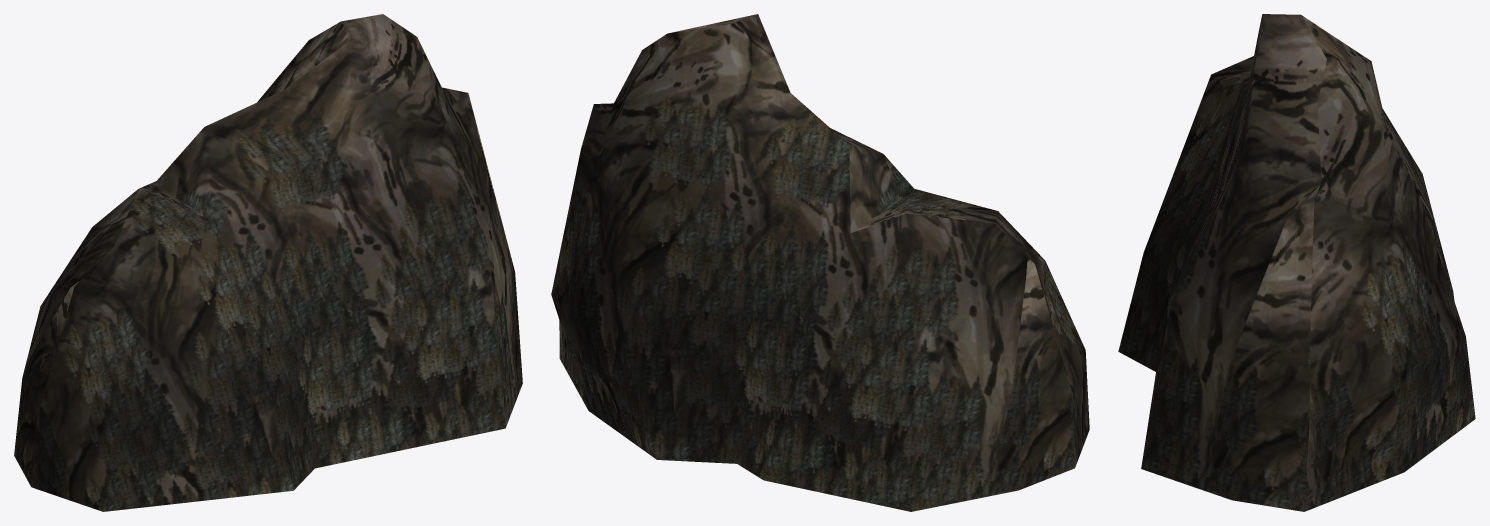
File: PRP_HillBackground02.FBX
3 views of the same model, side by side, from view 1: azimuth 30°, elevation 25°; view 2: azimuth 150°, elevation 25°; view 3: azimuth 270°, elevation 25° (orthographic). The views are drawn at different scales.
Visible parts, largest first — view 1: PRP_HillBackground02; view 2: PRP_HillBackground02; view 3: PRP_HillBackground02.
Boxes of the visible parts, x1,y1,x2,y2 form: PRP_HillBackground02: [14, 14, 522, 511]; PRP_HillBackground02: [551, 14, 1089, 511]; PRP_HillBackground02: [1118, 14, 1475, 511].
Size of the model in its own units: 2604 by 1880 by 1498.
Materials: 1 (1 with a texture image).
